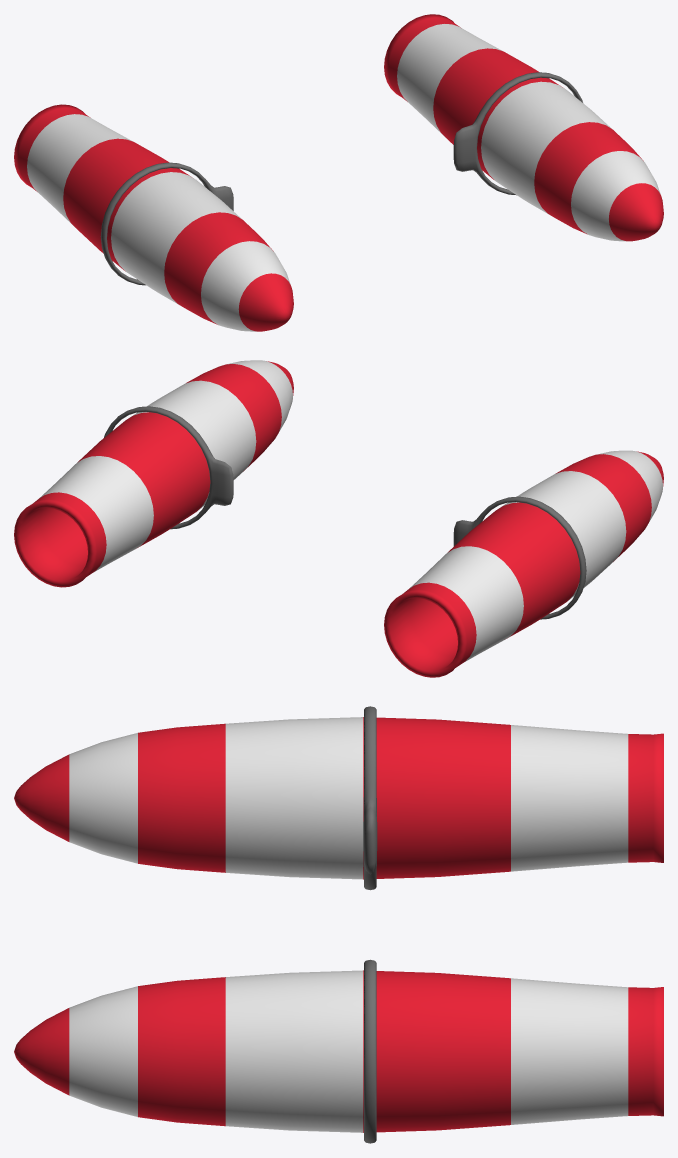
File: SilnikNajwiekszy.fbx
The picture shows the model from 3 angles, top to bottom: view 1: azimuth 30°, elevation 25°; view 2: azimuth 150°, elevation 25°; view 3: azimuth 270°, elevation 25°; orthographic projection. The views are drawn at different scales.
Visible parts, largest first — view 1: Booster.002, Booster, Booster.001, Booster.003; view 2: Booster.002, Booster, Booster.001, Booster.003; view 3: Booster, Booster.002, Booster.003, Booster.001.
Boxes of the visible parts, x1,y1,x2,y2 form: Booster.002: (14,104,293,331); Booster: (384,14,663,241); Booster.001: (453,72,582,195); Booster.003: (100,162,233,285); Booster.002: (384,450,663,677); Booster: (14,360,293,587); Booster.001: (104,406,233,529); Booster.003: (453,496,586,619); Booster: (14,970,663,1132); Booster.002: (14,717,663,879); Booster.003: (363,706,377,890); Booster.001: (364,959,376,1143).
Size of the model in its own units: 217 by 50.93 by 180.
